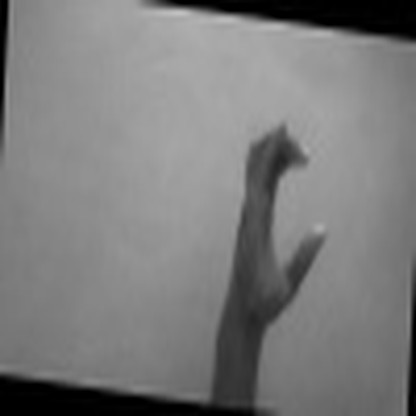c: (234, 116, 331, 311)
